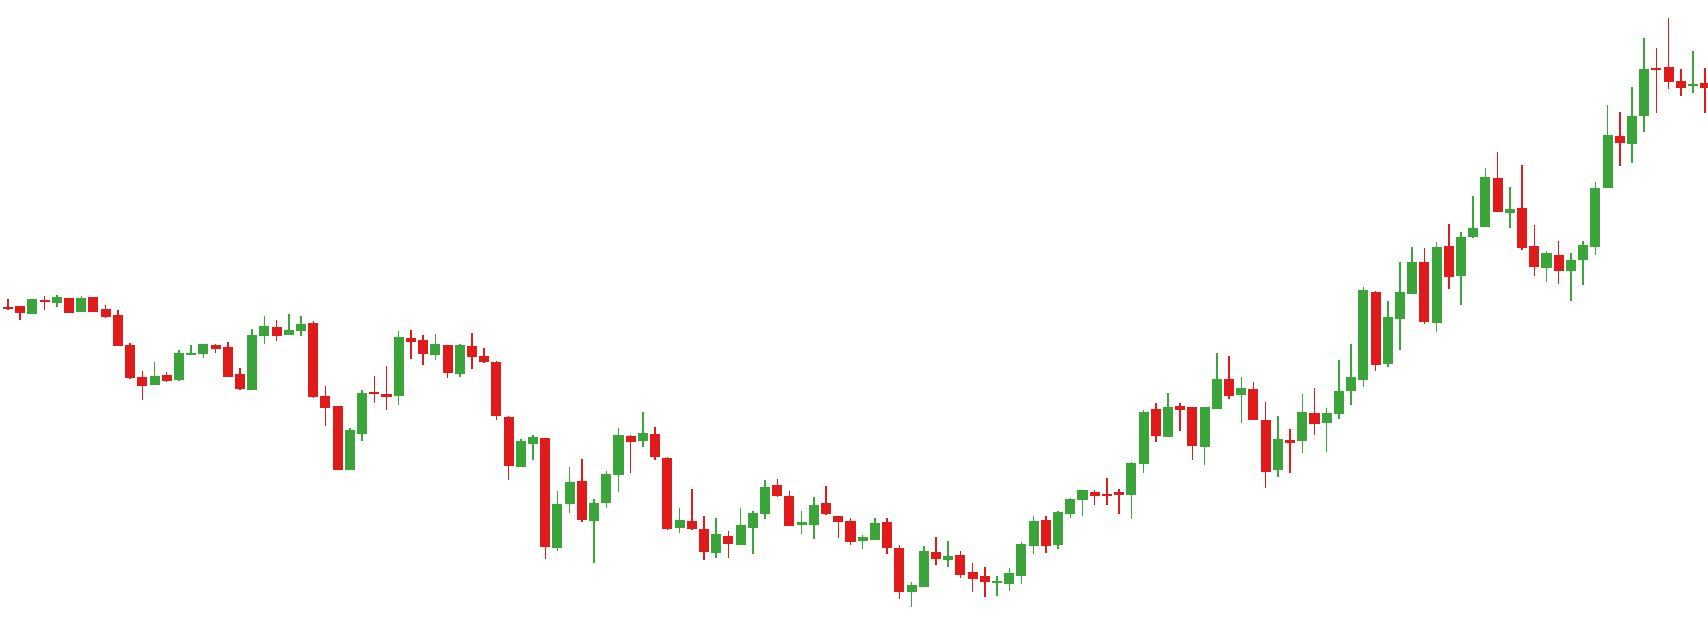buy: (1184, 379, 1285, 491)
sell: (528, 428, 635, 503)
